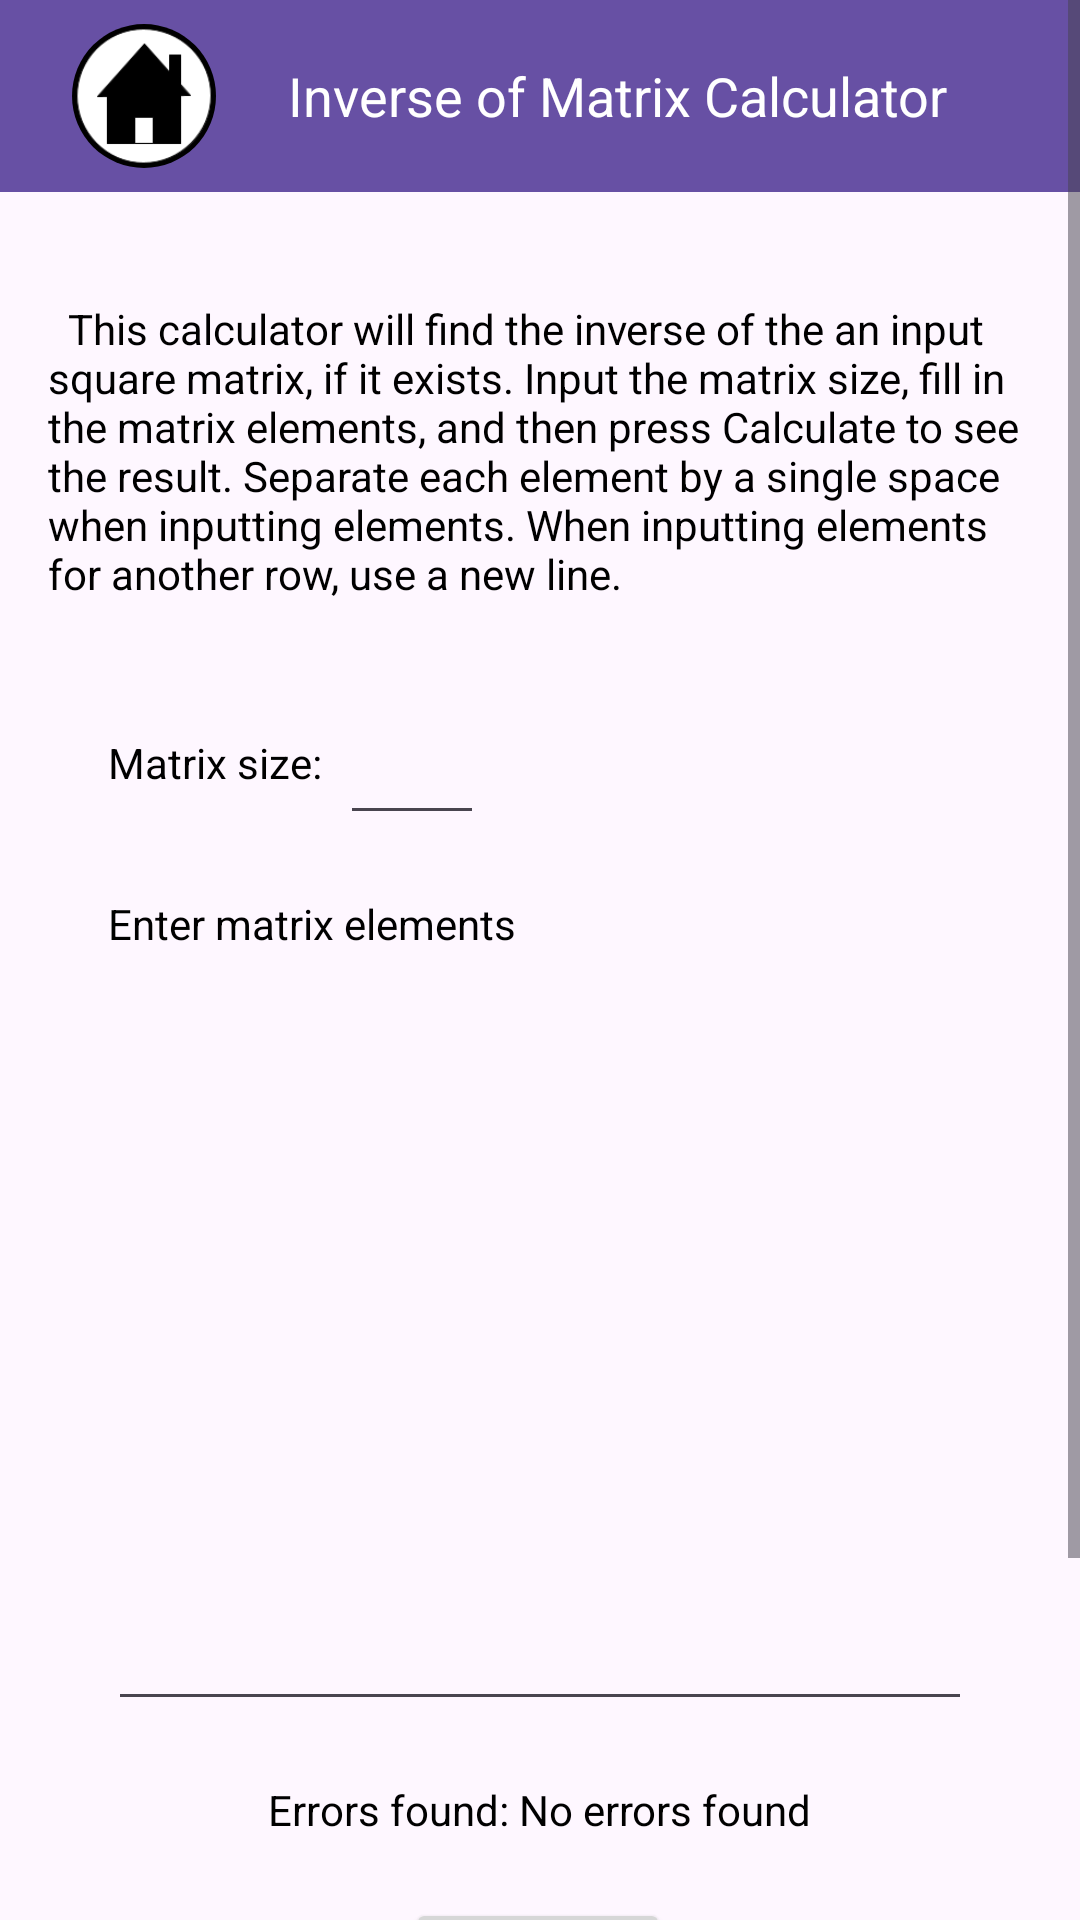

Point at icon controls on the screen. Image size 1080×1920, points as [x,y].
Home: [144,96]
